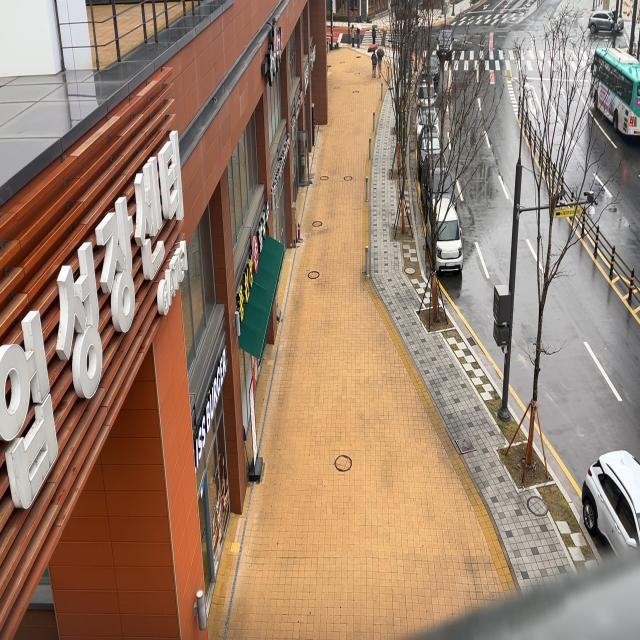Bus: (588, 39, 640, 147)
Car: (575, 446, 640, 558), (422, 191, 466, 275), (420, 152, 459, 212), (417, 123, 444, 175), (588, 7, 625, 37), (415, 104, 442, 141), (436, 17, 458, 60), (421, 51, 443, 84), (416, 78, 436, 105)
